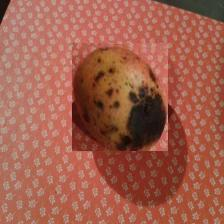Mango Semirotten: (72, 43, 168, 151)
